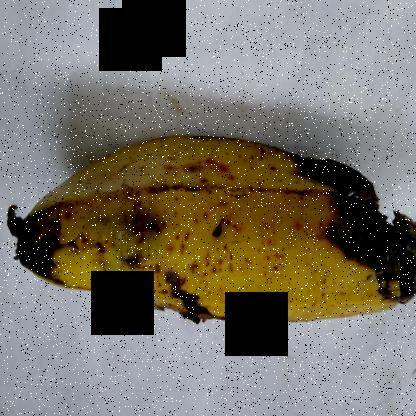rotten: (0, 168, 223, 329), (269, 79, 415, 316)
